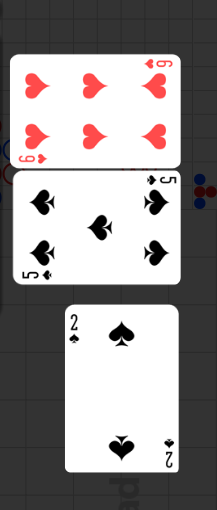2S: (162, 436, 175, 469)
5S: (21, 269, 54, 282)
6H: (142, 58, 174, 71)
